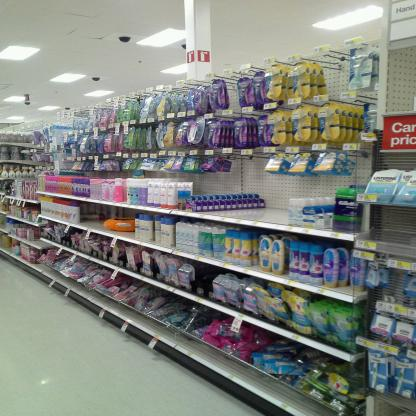Void: (388, 48, 416, 109), (369, 212, 412, 242), (269, 179, 287, 224), (82, 203, 100, 228), (226, 208, 265, 219), (197, 261, 210, 294)
